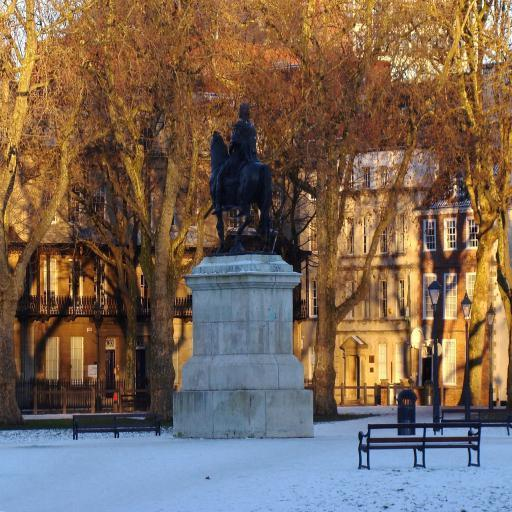horse: (208, 131, 272, 254)
